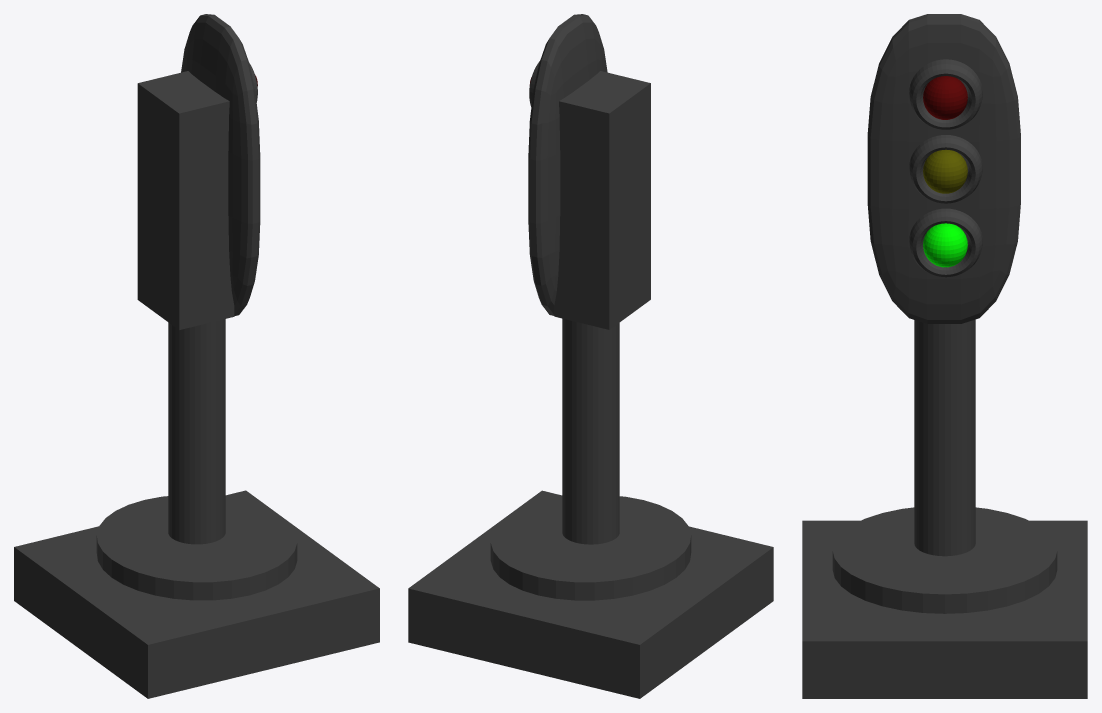
Rendered from TL_green.fbx.
3 views of the same model, side by side, from view 1: azimuth 30°, elevation 25°; view 2: azimuth 150°, elevation 25°; view 3: azimuth 270°, elevation 25° (orthographic). The views are drawn at different scales.
Visible parts, largest first — view 1: Cube, Cube.002, Cylinder, Cylinder.001, Cube.001; view 2: Cube, Cube.002, Cylinder, Cylinder.001, Cube.001; view 3: Cube, Cube.001, Cylinder, Cylinder.001, R_TORUS, G_TORUS.002, Y_TORUS.001, G_LED, R_LED, Y_LED.
Part boxes in pixels (bbox=[...]): Cube: bbox=[14, 490, 379, 698]; Cube.002: bbox=[137, 71, 234, 330]; Cylinder: bbox=[96, 496, 297, 600]; Cylinder.001: bbox=[168, 319, 225, 544]; Cube.001: bbox=[181, 14, 260, 316]; Cube: bbox=[408, 490, 773, 698]; Cube.002: bbox=[554, 71, 650, 329]; Cylinder: bbox=[490, 496, 691, 600]; Cylinder.001: bbox=[562, 318, 619, 544]; Cube.001: bbox=[528, 14, 607, 315]; Cube: bbox=[802, 520, 1087, 698]; Cube.001: bbox=[867, 14, 1020, 323]; Cylinder: bbox=[832, 507, 1057, 613]; Cylinder.001: bbox=[914, 319, 975, 556]; R_TORUS: bbox=[909, 59, 982, 129]; G_TORUS.002: bbox=[909, 208, 982, 277]; Y_TORUS.001: bbox=[909, 135, 982, 203]; G_LED: bbox=[923, 223, 967, 267]; R_LED: bbox=[923, 76, 967, 119]; Y_LED: bbox=[923, 149, 967, 193].
Size of the model in its own units: 54.91 by 135 by 54.91.
